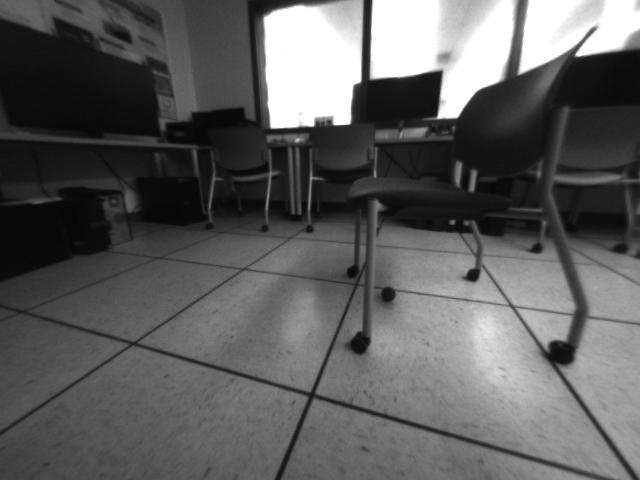dogtoy: (376, 277, 402, 307)
